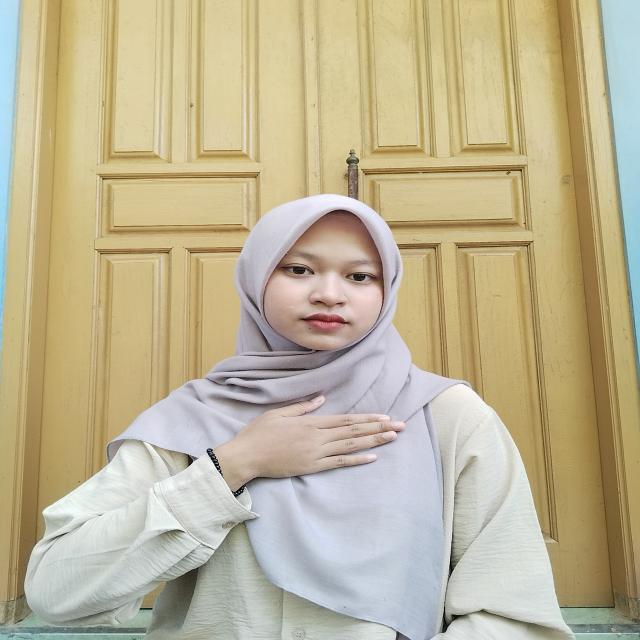tolong: (190, 390, 415, 497)
